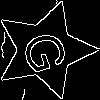G: (19, 25, 79, 77)
